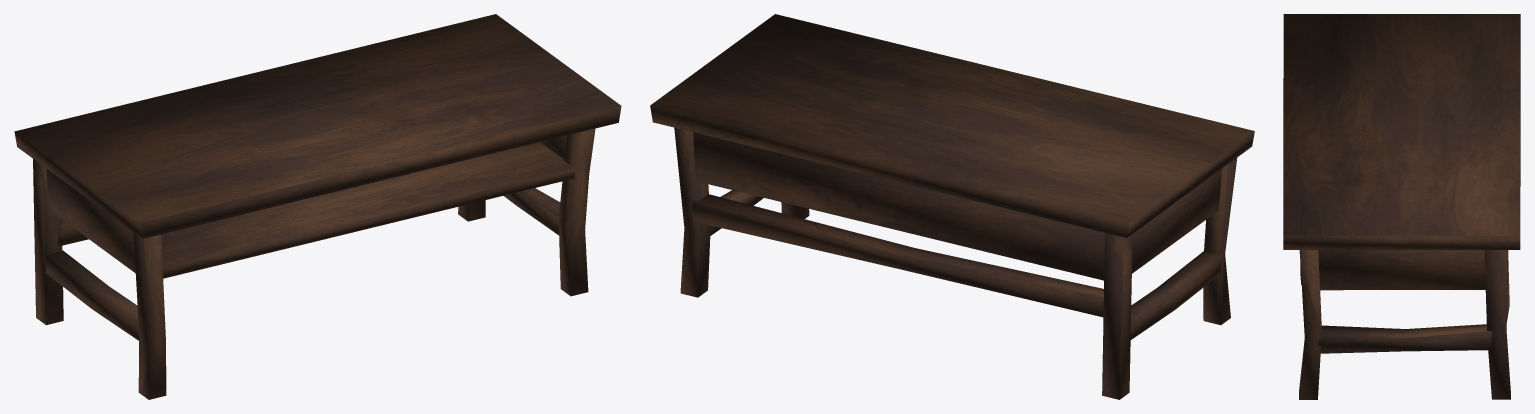
Rendered from desk.glb.
3 views of the same model, side by side, from view 1: azimuth 30°, elevation 25°; view 2: azimuth 150°, elevation 25°; view 3: azimuth 270°, elevation 25° (orthographic). The views are drawn at different scales.
Parts seen in each view (by area): view 1: Desk.001; view 2: Desk.001; view 3: Desk.001.
Part boxes in pixels (x1,y1,x2,y2): Desk.001: (14,14,621,399); Desk.001: (650,14,1254,399); Desk.001: (1283,14,1520,399).
Size of the model in its own units: 1.3 by 0.4813 by 0.5887.
Materials: 2 (2 with a texture image).
